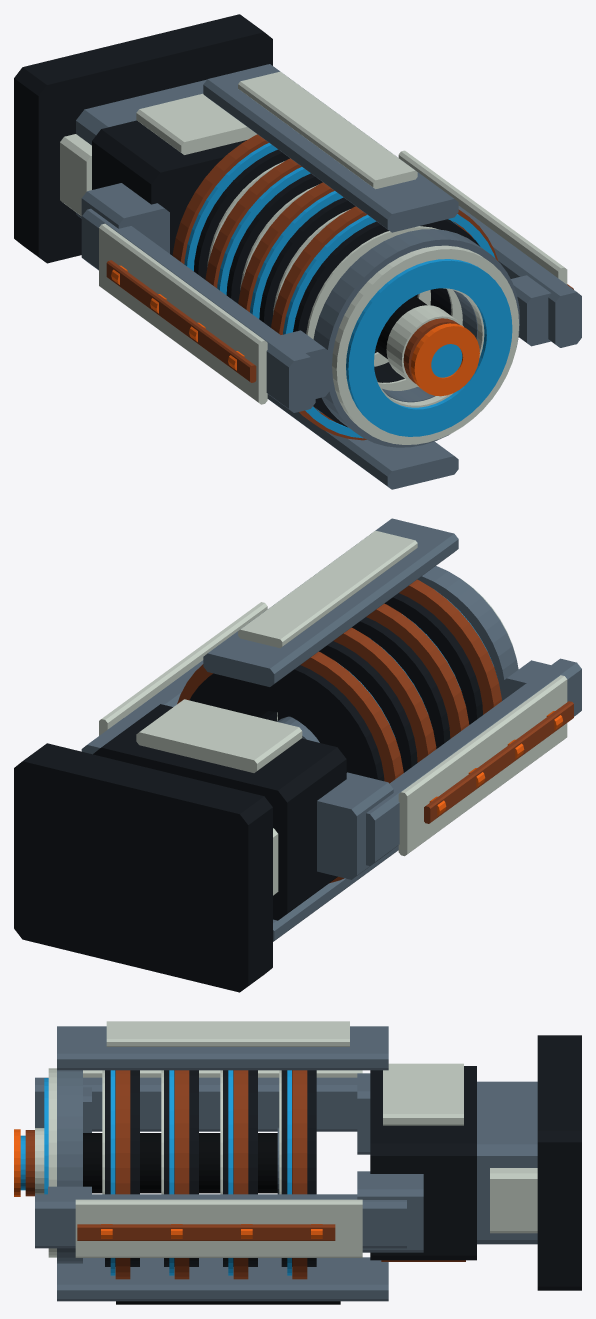
The model's file is M01-014_electromagnetic_pulser.obj.
3 views of the same model, one above another, from view 1: azimuth 30°, elevation 25°; view 2: azimuth 150°, elevation 25°; view 3: azimuth 270°, elevation 25° (orthographic). The views are drawn at different scales.
Visible parts, largest first — view 1: Mount_Front_Socket, Muzzle_Cyan_Annulus, Dorsal_Spine, Side_Armor_L, Rear_Electronics_Housing, Dorsal_Ceramic_Insulator, Muzzle_Ring_Ceramic, Muzzle_Ring_Titanium, Load_Rail_L, Ventral_Spine, Rear_Service_Ceramic, Load_Rail_R (+26 smaller); view 2: Mount_Front_Socket, Rear_Electronics_Housing, Dorsal_Spine, Side_Armor_L, Ferrite_Yoke_01, Rear_Service_Ceramic, Dorsal_Ceramic_Insulator, Load_Rail_L, Rear_Rail_Brace_L, Copper_Induction_01, Muzzle_Ring_Titanium, Copper_Induction_04 (+11 smaller); view 3: Side_Armor_R, Ventral_Spine, Rear_Electronics_Housing, Mount_Front_Socket, Dorsal_Spine, Load_Rail_L, Mount_Titanium_Bridge, Dorsal_Ceramic_Insulator, Load_Rail_R, Rear_Service_Ceramic, Ferrite_Core_Shaft, Side_Copper_Bus_R (+29 smaller).
Boxes of the visible parts, x1,y1,x2,y2 form: Mount_Front_Socket: [14, 14, 272, 263]; Muzzle_Cyan_Annulus: [346, 259, 512, 436]; Dorsal_Spine: [203, 64, 458, 232]; Side_Armor_L: [99, 223, 267, 404]; Rear_Electronics_Housing: [92, 120, 246, 255]; Dorsal_Ceramic_Insulator: [238, 71, 417, 189]; Muzzle_Ring_Ceramic: [332, 245, 519, 444]; Muzzle_Ring_Titanium: [313, 229, 519, 447]; Load_Rail_L: [82, 208, 315, 412]; Ventral_Spine: [267, 394, 458, 489]; Rear_Service_Ceramic: [136, 93, 256, 154]; Load_Rail_R: [458, 206, 581, 347]; Mount_Front_Socket: [14, 743, 272, 992]; Rear_Electronics_Housing: [93, 704, 346, 920]; Dorsal_Spine: [203, 518, 458, 686]; Side_Armor_L: [398, 675, 567, 856]; Ferrite_Yoke_01: [189, 665, 384, 781]; Rear_Service_Ceramic: [136, 699, 302, 772]; Dorsal_Ceramic_Insulator: [238, 530, 417, 648]; Load_Rail_L: [366, 658, 581, 865]; Rear_Rail_Brace_L: [317, 772, 393, 879]; Copper_Induction_01: [177, 651, 403, 883]; Muzzle_Ring_Titanium: [417, 566, 518, 700]; Copper_Induction_04: [399, 579, 501, 714]; Side_Armor_R: [75, 1199, 362, 1257]; Ventral_Spine: [57, 1257, 388, 1301]; Rear_Electronics_Housing: [370, 1066, 476, 1260]; Mount_Front_Socket: [537, 1035, 581, 1290]; Dorsal_Spine: [57, 1026, 388, 1070]; Load_Rail_L: [35, 1077, 357, 1131]; Mount_Titanium_Bridge: [477, 1081, 537, 1244]; Dorsal_Ceramic_Insulator: [106, 1021, 349, 1046]; Load_Rail_R: [35, 1194, 406, 1248]; Rear_Service_Ceramic: [383, 1063, 463, 1125]; Ferrite_Core_Shaft: [83, 1133, 277, 1193]; Side_Copper_Bus_R: [77, 1224, 335, 1240].
Size of the model in its own units: 0.926 by 0.794 by 1.54.
